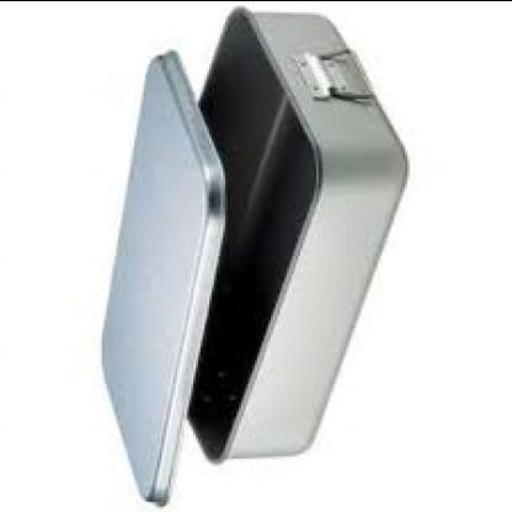metal: (194, 4, 408, 462), (100, 46, 224, 504)
